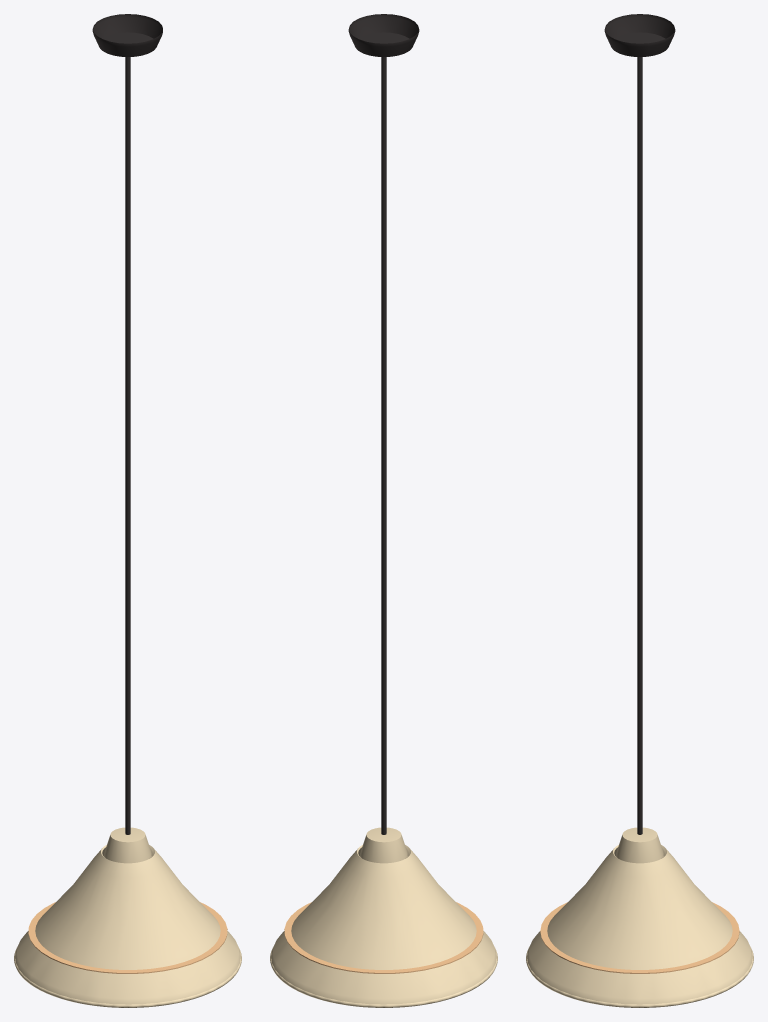
Rendered from lp_pendant.glb.
The picture shows the model from 3 angles, left to right: view 1: azimuth 30°, elevation 25°; view 2: azimuth 150°, elevation 25°; view 3: azimuth 270°, elevation 25°; orthographic projection.
Parts seen in each view (by area): view 1: lp_pendant; view 2: lp_pendant; view 3: lp_pendant.
Boxes of the visible parts, left/top/right/bottom form: lp_pendant: left=14, top=14, right=241, bottom=1007; lp_pendant: left=270, top=14, right=497, bottom=1007; lp_pendant: left=526, top=14, right=753, bottom=1007.
Bounding box in the file's own units: 0.3889 × 1.75 × 0.3889.
